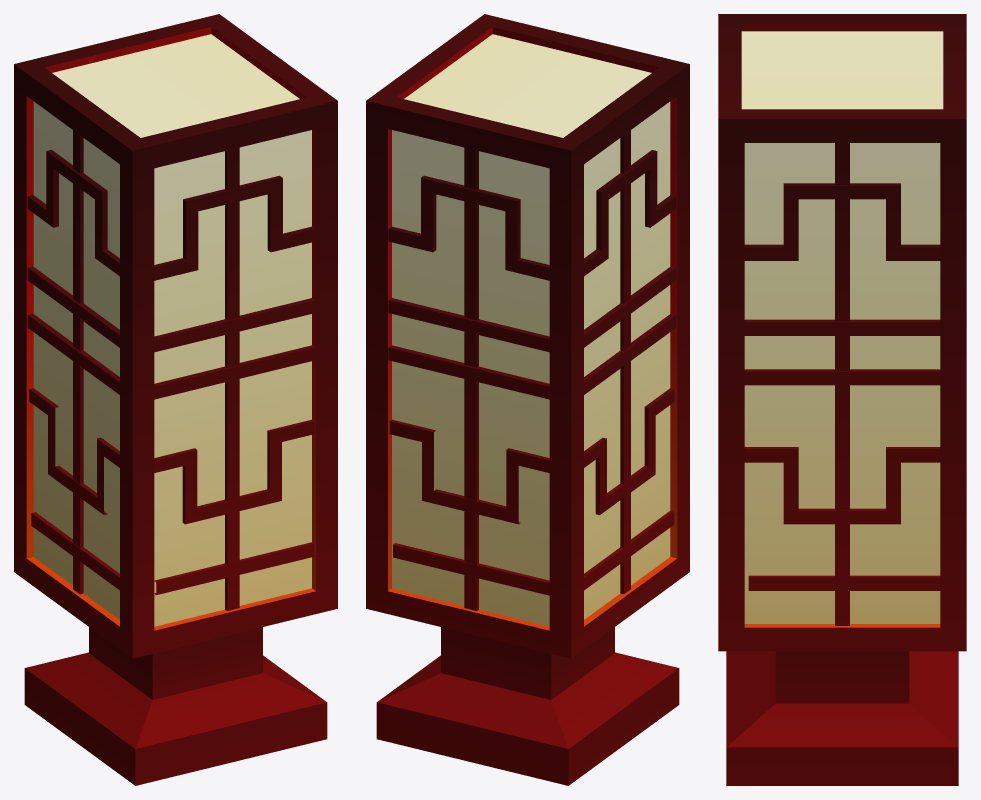
The model's file is SK_Lamp_002.FBX.
The picture shows the model from 3 angles, left to right: view 1: azimuth 30°, elevation 25°; view 2: azimuth 150°, elevation 25°; view 3: azimuth 270°, elevation 25°; orthographic projection. The views are drawn at different scales.
Visible parts, largest first — view 1: SK_Lamp_002; view 2: SK_Lamp_002; view 3: SK_Lamp_002.
Boxes of the visible parts, <box> form: SK_Lamp_002: <box>14,14,337,785</box>; SK_Lamp_002: <box>366,14,689,785</box>; SK_Lamp_002: <box>718,14,966,785</box>.
Size of the model in its own units: 17.84 by 53.11 by 17.84.
1 material, 1 textured.
